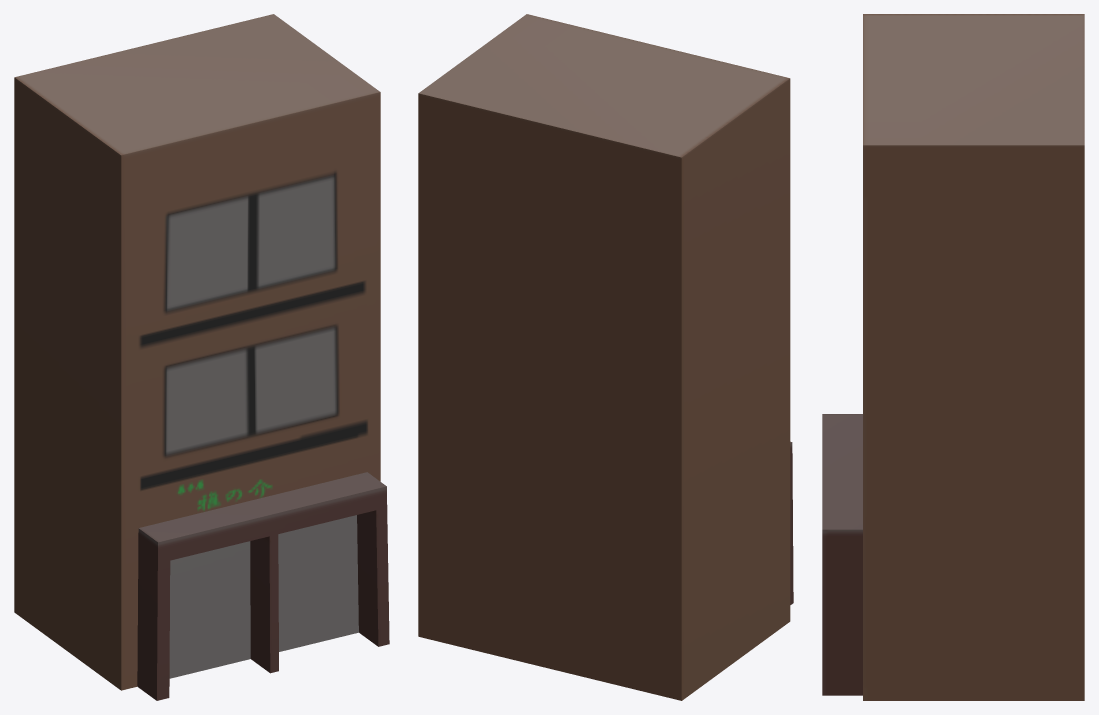
Rendered from bill.fbx.
The picture shows the model from 3 angles, left to right: view 1: azimuth 30°, elevation 25°; view 2: azimuth 150°, elevation 25°; view 3: azimuth 270°, elevation 25°; orthographic projection. The views are drawn at different scales.
Visible parts, largest first — view 1: bill_bill_bill_pCube1; view 2: bill_bill_bill_pCube1; view 3: bill_bill_bill_pCube1.
Boxes of the visible parts, <box> form: bill_bill_bill_pCube1: <box>14,14,389,700</box>; bill_bill_bill_pCube1: <box>418,14,793,700</box>; bill_bill_bill_pCube1: <box>822,14,1084,700</box>.
Size of the model in its own units: 0.061 by 0.1202 by 0.0514.
1 material, 1 textured.
